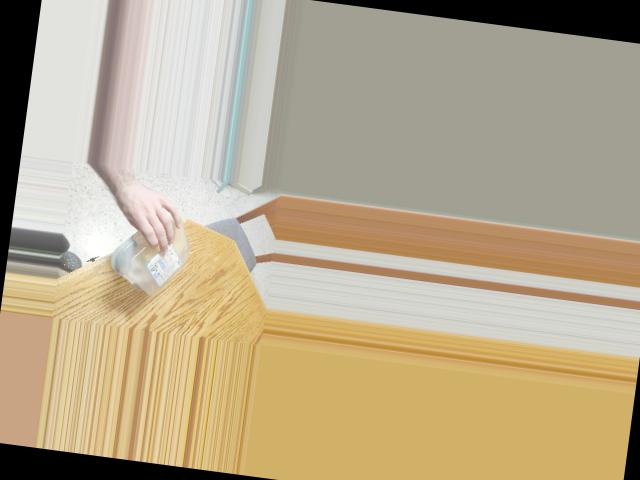cheese: (109, 198, 195, 299)
